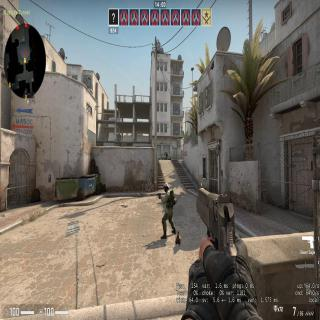CT-Body: (156, 179, 180, 234), (164, 150, 168, 160)
CT-Head: (163, 184, 168, 191), (165, 151, 167, 154)
